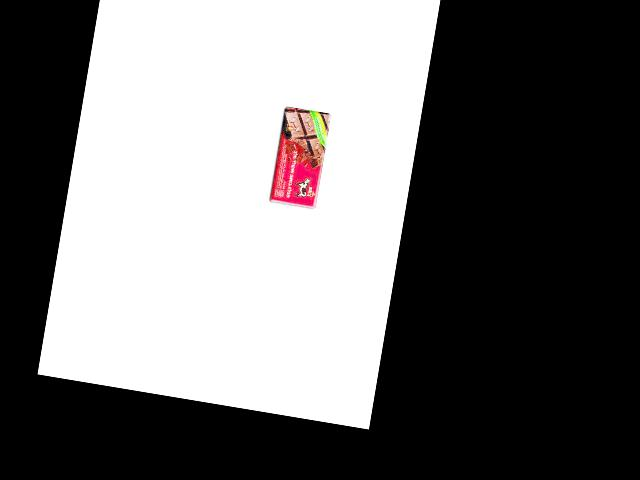chocolate: (263, 105, 332, 212)
